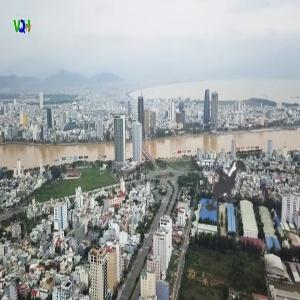drone: (171, 128, 290, 247)
